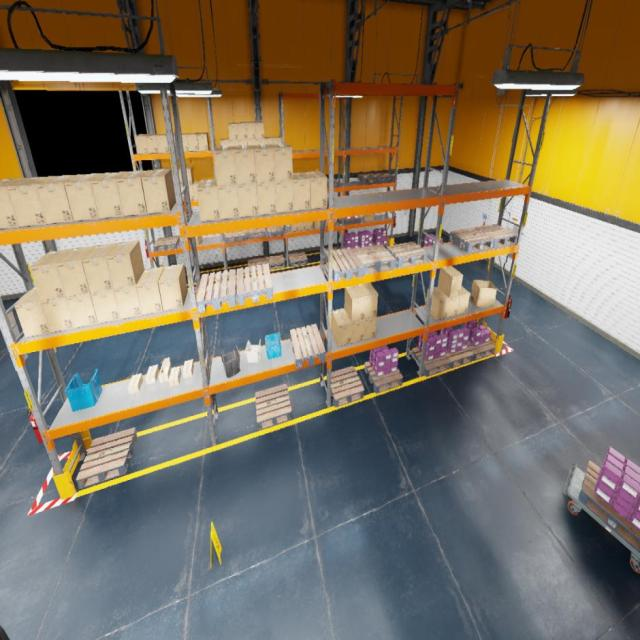box: (7, 176, 55, 228), (30, 248, 72, 301), (36, 174, 80, 224), (56, 245, 95, 297), (64, 173, 104, 221), (14, 286, 50, 338), (106, 240, 144, 288), (82, 243, 118, 293), (90, 172, 128, 218), (117, 170, 149, 217), (142, 169, 176, 213), (0, 178, 29, 228), (136, 267, 164, 314), (159, 264, 187, 310), (41, 298, 74, 332), (66, 293, 97, 327), (90, 290, 120, 324), (197, 179, 220, 221), (114, 286, 142, 319), (214, 146, 237, 186), (234, 144, 256, 184), (253, 144, 275, 182), (305, 172, 327, 209), (271, 144, 293, 181), (426, 287, 450, 320), (217, 185, 240, 219), (344, 285, 365, 322), (438, 266, 462, 298), (332, 308, 351, 346), (358, 282, 378, 318), (438, 287, 460, 318), (471, 281, 497, 307), (293, 172, 310, 211), (256, 182, 276, 215), (345, 309, 364, 343), (238, 184, 258, 216), (275, 181, 294, 213), (457, 286, 470, 315), (128, 373, 143, 394), (159, 358, 171, 382), (364, 316, 376, 340), (145, 134, 159, 153), (146, 364, 159, 384), (156, 134, 169, 153), (135, 135, 148, 154), (169, 366, 181, 386), (197, 133, 210, 150), (187, 133, 199, 151), (183, 359, 194, 378), (172, 167, 182, 186), (228, 122, 238, 140), (237, 122, 246, 140), (166, 134, 175, 151), (255, 122, 264, 139), (246, 122, 255, 139), (192, 181, 200, 200), (186, 167, 194, 185), (189, 236, 202, 246), (174, 187, 184, 200), (182, 134, 188, 151), (272, 136, 282, 144), (189, 185, 194, 200), (220, 138, 229, 146), (364, 214, 374, 221), (290, 224, 298, 232), (264, 137, 273, 144), (299, 222, 306, 230), (313, 221, 320, 228), (306, 222, 312, 230), (230, 140, 238, 146), (247, 140, 256, 145), (238, 140, 247, 145), (256, 139, 264, 144), (324, 220, 328, 227), (334, 219, 336, 226)
forklift: (0, 626, 10, 639)
pallets: (578, 460, 639, 553), (75, 427, 137, 489), (196, 269, 236, 313), (256, 384, 292, 431), (290, 324, 325, 369), (327, 366, 364, 407), (237, 264, 273, 306), (324, 248, 364, 281), (352, 244, 395, 274), (364, 362, 403, 394), (411, 347, 450, 377), (387, 242, 428, 268), (474, 224, 518, 248), (450, 228, 494, 252), (445, 347, 473, 369), (467, 341, 495, 361), (154, 236, 180, 251), (288, 252, 308, 267), (248, 257, 266, 273), (266, 254, 284, 270), (225, 230, 245, 243), (246, 228, 265, 240), (358, 174, 380, 184), (267, 226, 284, 238), (374, 172, 394, 182), (324, 246, 337, 261), (341, 217, 362, 224), (372, 242, 390, 250), (328, 178, 339, 188), (340, 245, 346, 257), (184, 270, 186, 276)
